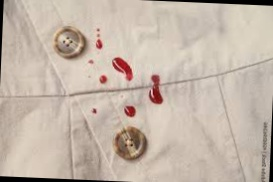blood: (147, 73, 165, 105)
